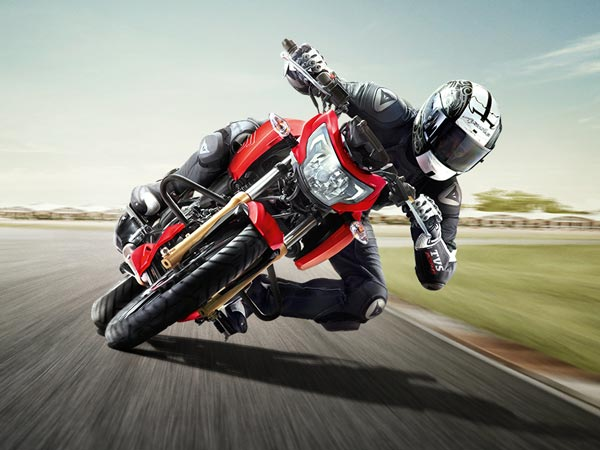helmet: (415, 76, 501, 183)
